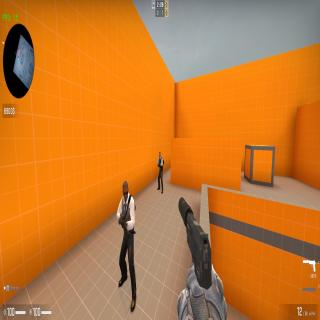T-Body: (116, 181, 136, 312), (157, 152, 164, 194)
T-Head: (122, 180, 129, 201), (159, 152, 161, 158)
